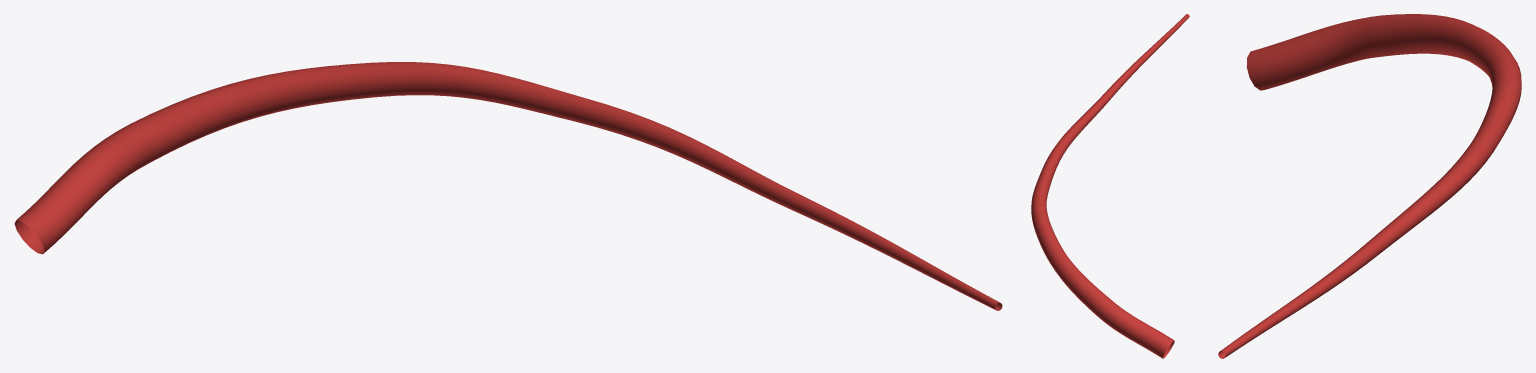
3 views of the same model, side by side, from view 1: azimuth 30°, elevation 25°; view 2: azimuth 150°, elevation 25°; view 3: azimuth 330°, elevation 25° (orthographic). The views are drawn at different scales.
Parts seen in each view (by area): view 1: 右侧脑膜中动脉; view 2: 右侧脑膜中动脉; view 3: 右侧脑膜中动脉.
Part boxes in pixels (x1,y1,x2,y2): 右侧脑膜中动脉: [14, 62, 1002, 310]; 右侧脑膜中动脉: [1031, 14, 1189, 358]; 右侧脑膜中动脉: [1218, 14, 1521, 358].
Size of the model in its own units: 0.0186 by 0.00769 by 0.0353.
